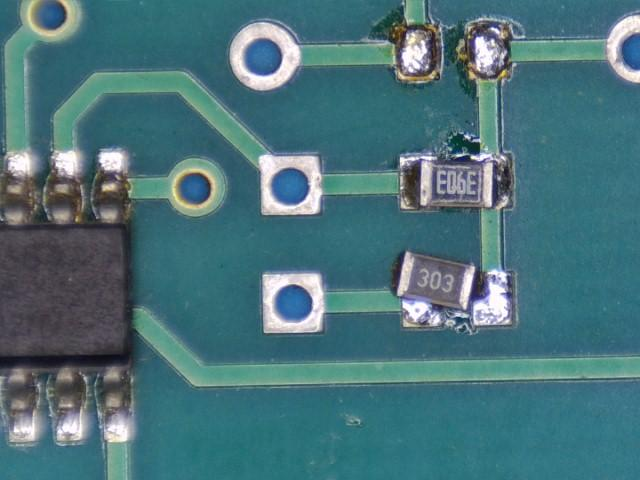Incorrect_installation: (396, 250, 516, 330)
